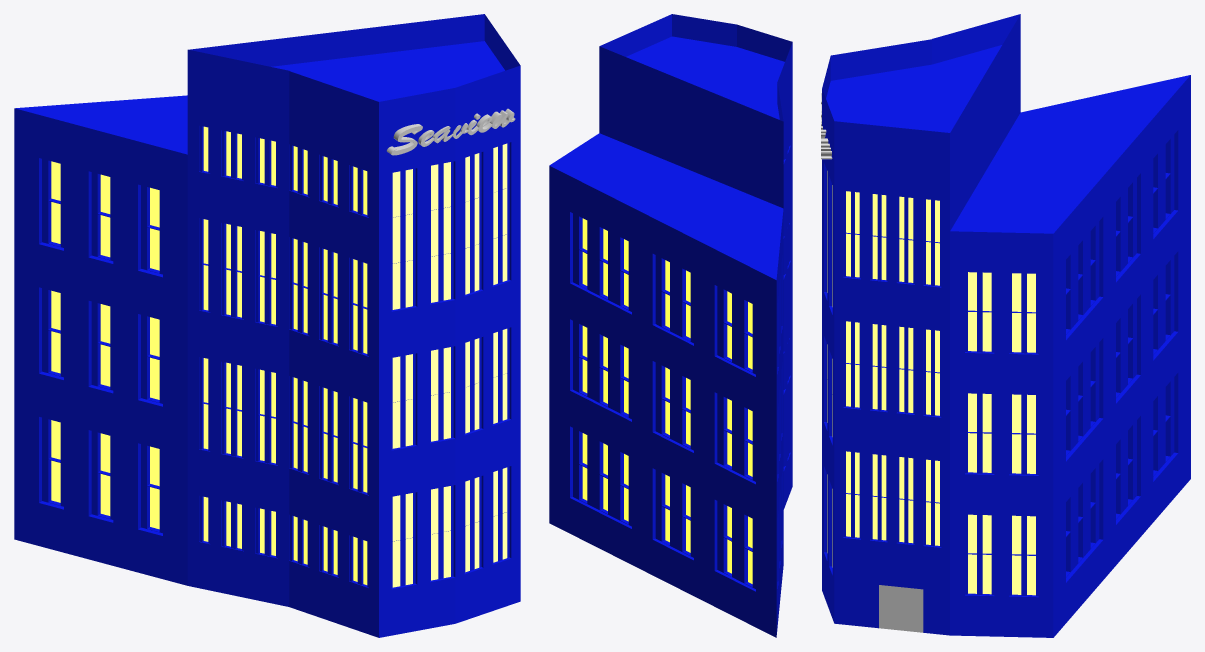
The model's file is the_seaview.fbx.
The picture shows the model from 3 angles, left to right: view 1: azimuth 30°, elevation 25°; view 2: azimuth 150°, elevation 25°; view 3: azimuth 270°, elevation 25°; orthographic projection. The views are drawn at different scales.
Visible parts, largest first — view 1: the_seaview; view 2: the_seaview; view 3: the_seaview.
Boxes of the visible parts, box(x1,y1,x2,y2) form: the_seaview: box(14, 14, 520, 637); the_seaview: box(549, 14, 792, 637); the_seaview: box(821, 14, 1190, 637).
Size of the model in its own units: 785 by 1159 by 772.
